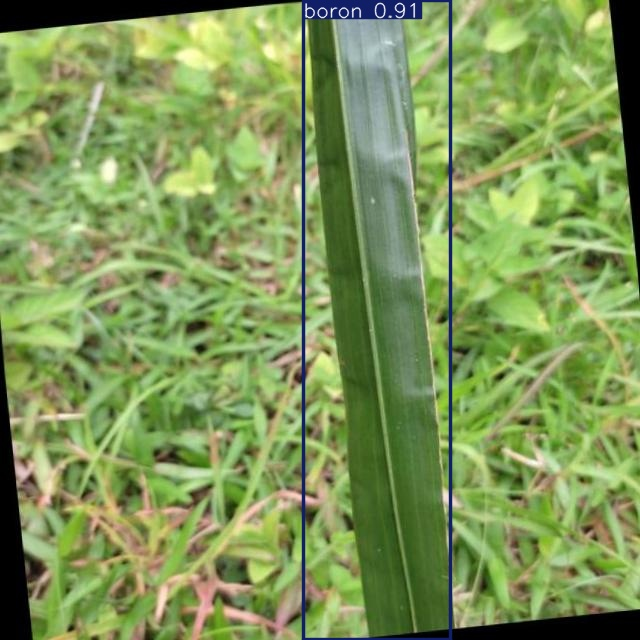nitrogen: (304, 1, 451, 640)
